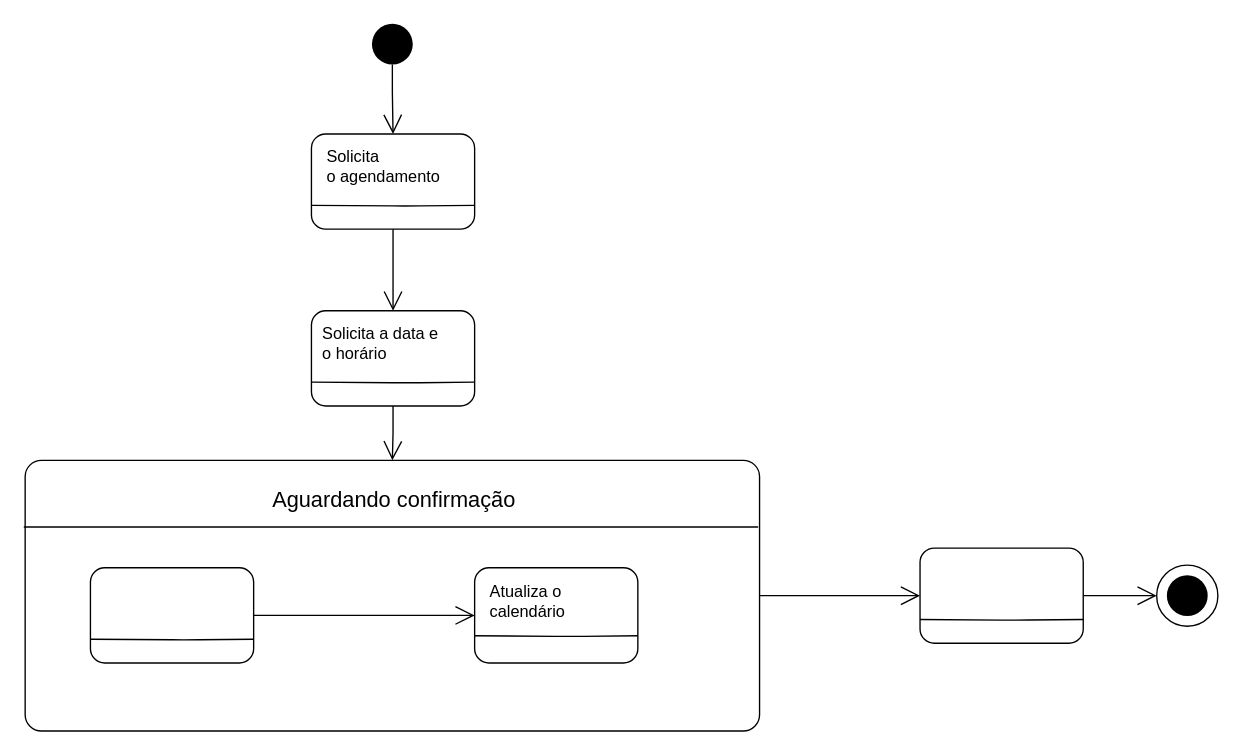
The diagram is 1242 pixels wide and 755 high, and some of its shapes have lost their labels. The shapes that lost their labels are listed below. From the top down, each one's box as (x1, y1, x2, y2) in pixels, then its label:
(89, 566, 254, 663): Verifica se a data e horário estão disponíveis
(919, 547, 1083, 643): Confirma o agendamento
